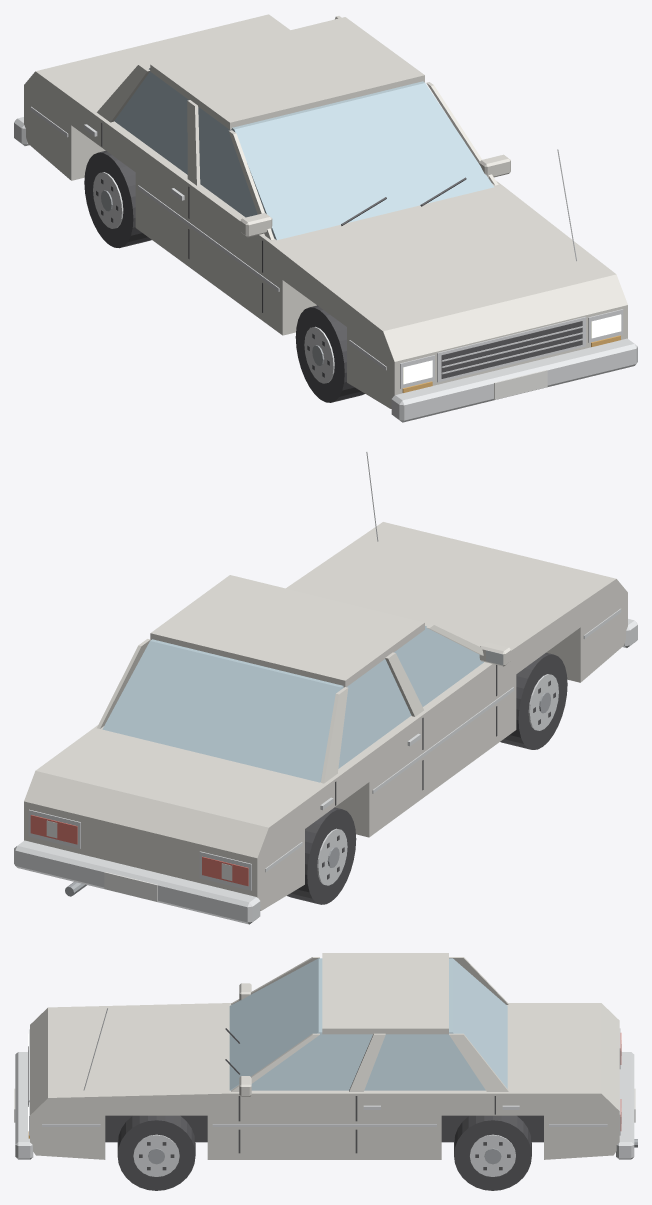
Rendered from car_ok.glb.
3 renders of one model, top to bottom at view 1: azimuth 30°, elevation 25°; view 2: azimuth 150°, elevation 25°; view 3: azimuth 270°, elevation 25°, orthographic. The views are drawn at different scales.
Parts seen in each view (by area): view 1: car_ok_car_w, car_ok_glass, car_ok_chrome, car_ok_rubber, car_ok_dark, car_ok_lamp_glass, car_ok_paint_w; view 2: car_ok_car_w, car_ok_glass, car_ok_chrome, car_ok_rubber, car_ok_neon_r, car_ok_paint_w; view 3: car_ok_car_w, car_ok_glass, car_ok_rubber, car_ok_chrome, car_ok_dark, car_ok_steel.
Boxes of the visible parts, <box> form: car_ok_car_w: <box>24,14,627,408</box>; car_ok_glass: <box>114,68,493,240</box>; car_ok_chrome: <box>14,106,637,422</box>; car_ok_rubber: <box>84,150,364,402</box>; car_ok_dark: <box>96,122,582,378</box>; car_ok_lamp_glass: <box>403,314,621,384</box>; car_ok_paint_w: <box>494,370,547,399</box>; car_ok_car_w: <box>24,522,627,910</box>; car_ok_glass: <box>102,626,483,782</box>; car_ok_chrome: <box>14,451,637,924</box>; car_ok_rubber: <box>287,652,567,904</box>; car_ok_neon_r: <box>30,815,248,886</box>; car_ok_paint_w: <box>46,820,232,901</box>; car_ok_car_w: <box>30,953,619,1159</box>; car_ok_glass: <box>229,958,507,1090</box>; car_ok_rubber: <box>105,1115,543,1190</box>; car_ok_chrome: <box>15,1008,634,1176</box>; car_ok_dark: <box>28,1028,510,1170</box>; car_ok_steel: <box>148,1139,637,1164</box>.
Bounding box in the file's own units: 2 × 1.6 × 5.12.
